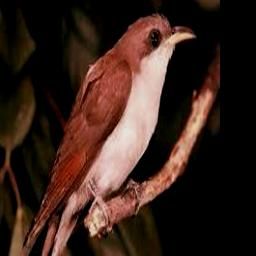Cuckoo: (22, 13, 197, 248)
